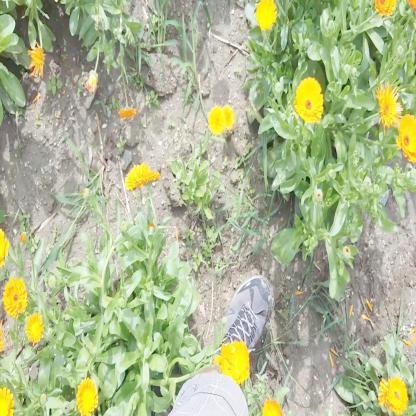marigold: (295, 76, 324, 124), (218, 340, 250, 380), (378, 376, 408, 412), (374, 84, 398, 127), (2, 281, 26, 318), (124, 161, 152, 192), (74, 378, 97, 415), (398, 116, 416, 159), (206, 103, 230, 135), (255, 1, 278, 29), (25, 313, 44, 341)
